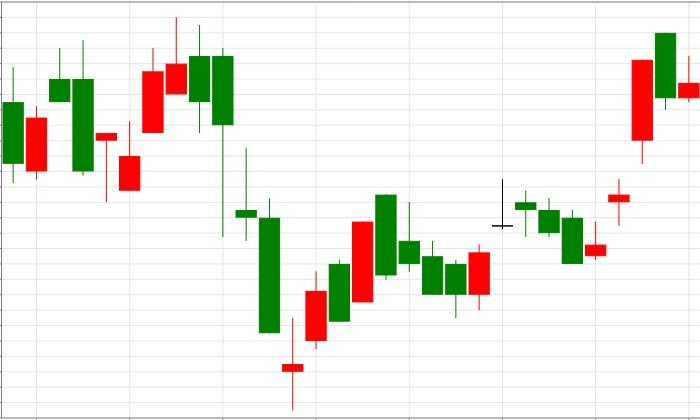three_white_soldiers_rise: (515, 59, 654, 264)
